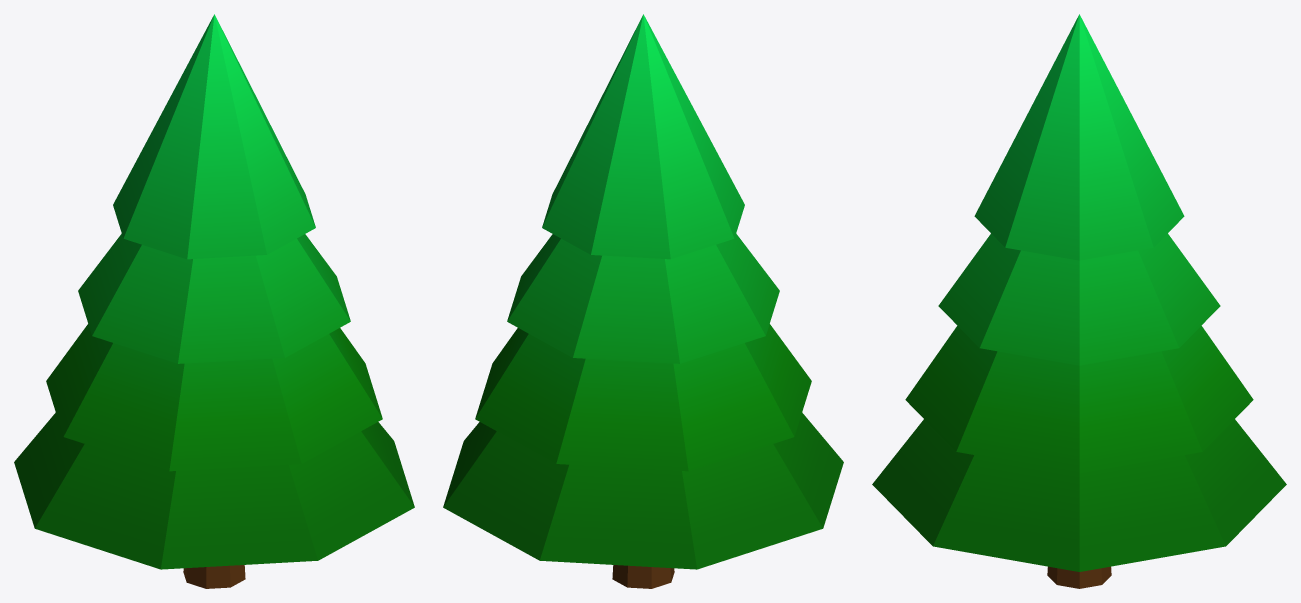
Rendered from DROW2.fbx.
3 renders of one model, left to right at view 1: azimuth 30°, elevation 25°; view 2: azimuth 150°, elevation 25°; view 3: azimuth 270°, elevation 25°, orthographic.
Parts seen in each view (by area): view 1: Cube.001; view 2: Cube.001; view 3: Cube.001.
Boxes of the visible parts, x1,y1,x2,y2 form: Cube.001: (14, 14, 414, 588); Cube.001: (443, 14, 843, 588); Cube.001: (872, 14, 1286, 588).
Size of the model in its own units: 734 by 1097 by 734.
